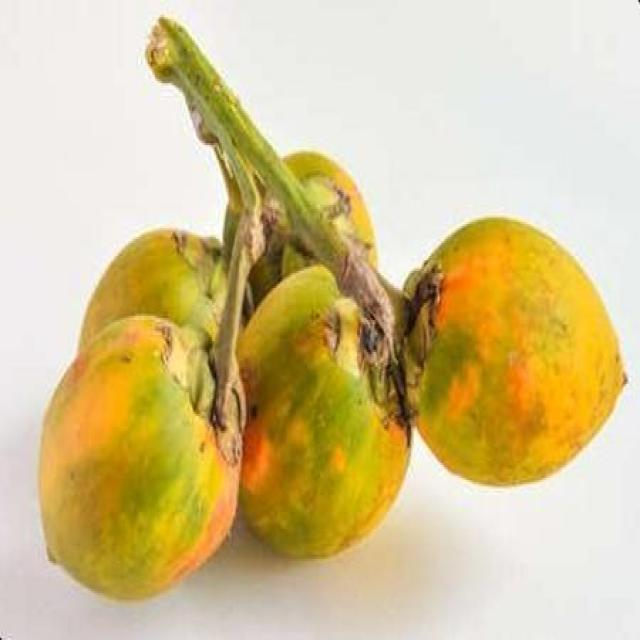good: (155, 26, 411, 563), (401, 218, 629, 491), (37, 316, 239, 604)
